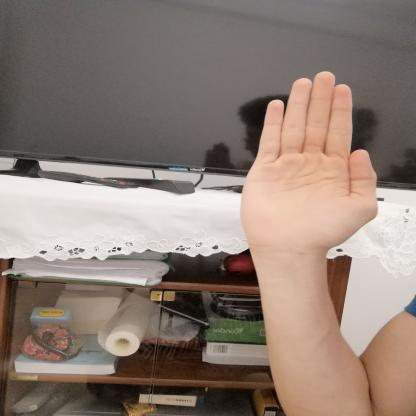SEEN: (227, 62, 385, 264)
